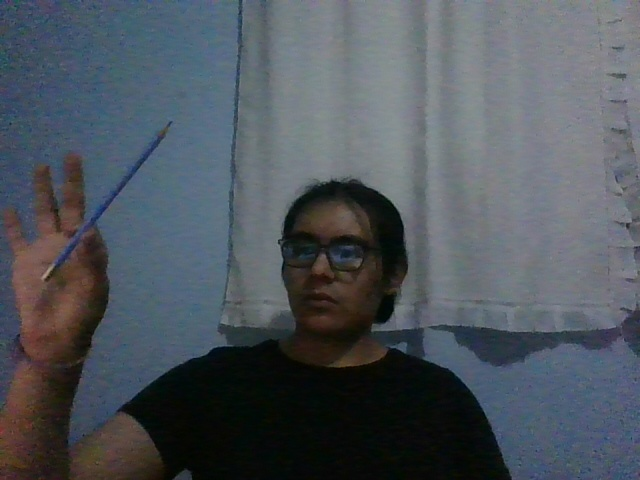lapiz: (39, 119, 174, 283)
